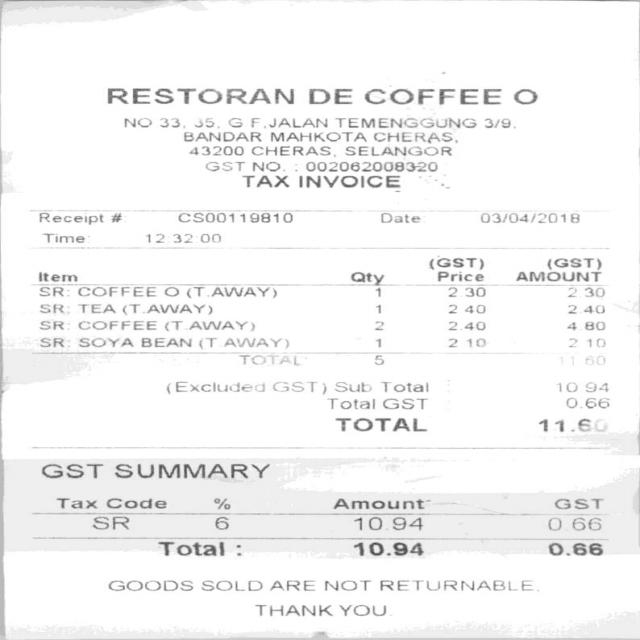text: (106, 87, 292, 103), (112, 463, 268, 479), (362, 88, 499, 104), (376, 580, 532, 590), (296, 174, 399, 189), (334, 116, 474, 127), (306, 161, 436, 172), (175, 211, 292, 223), (55, 496, 165, 508), (331, 417, 425, 431), (514, 270, 600, 285), (164, 381, 262, 393), (330, 496, 428, 508), (352, 540, 422, 556), (156, 540, 224, 556), (186, 286, 276, 298), (344, 145, 451, 155), (479, 211, 576, 222), (372, 132, 456, 144), (249, 145, 332, 157), (120, 303, 210, 314), (39, 462, 100, 478), (351, 516, 420, 530), (268, 132, 364, 142), (253, 604, 331, 616), (537, 417, 600, 431), (180, 130, 258, 141), (106, 580, 190, 590), (35, 212, 102, 224), (426, 256, 481, 270), (544, 256, 599, 270), (76, 286, 153, 296), (552, 498, 600, 514), (306, 88, 350, 104), (556, 354, 610, 367), (76, 320, 153, 329), (188, 320, 253, 330), (147, 233, 219, 242), (546, 542, 600, 554), (222, 338, 286, 348), (268, 116, 326, 127), (270, 381, 323, 393), (433, 270, 485, 282), (40, 232, 90, 244), (201, 580, 261, 590), (237, 354, 295, 364), (337, 604, 384, 616), (35, 270, 75, 284), (240, 175, 286, 187), (76, 337, 130, 347), (187, 145, 240, 155), (378, 381, 426, 392), (325, 398, 372, 409), (90, 516, 128, 529), (141, 337, 190, 347), (563, 397, 607, 408), (382, 398, 426, 409), (322, 580, 368, 590), (350, 271, 385, 284), (268, 580, 312, 590), (203, 160, 242, 171), (381, 211, 419, 222), (448, 320, 485, 331), (332, 381, 369, 392), (570, 516, 599, 530), (566, 286, 602, 297), (226, 116, 258, 128), (446, 286, 484, 296), (249, 160, 283, 171), (513, 88, 536, 104), (565, 320, 603, 329), (567, 338, 604, 347), (446, 304, 482, 313), (566, 304, 602, 313), (446, 338, 482, 347), (482, 118, 514, 128), (78, 304, 110, 313), (122, 116, 150, 126), (192, 116, 216, 127), (584, 381, 606, 392), (158, 116, 182, 126), (37, 286, 61, 296), (39, 337, 63, 347), (37, 320, 61, 329), (40, 304, 62, 313), (196, 337, 214, 348), (545, 516, 559, 530), (211, 496, 227, 508), (556, 382, 575, 392), (212, 516, 226, 529), (162, 320, 179, 330), (163, 286, 177, 296), (374, 354, 382, 364), (374, 320, 382, 329), (373, 338, 379, 347), (373, 286, 377, 296), (373, 304, 377, 312)
